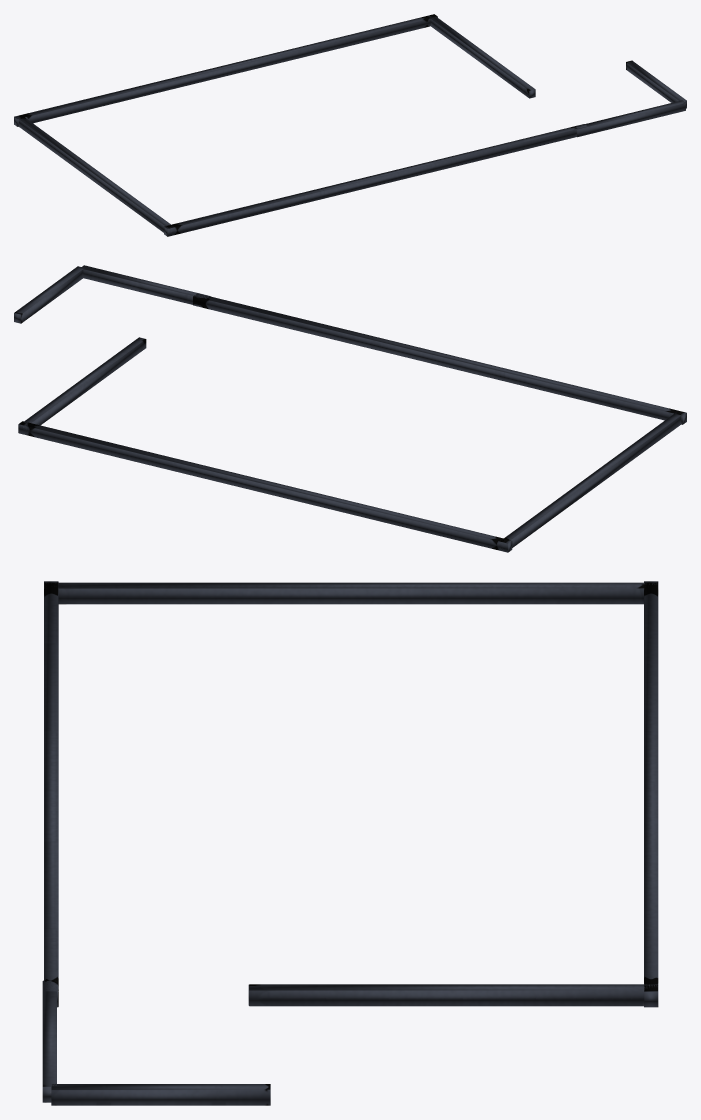
File: Albatros_Zocalo.fbx
The picture shows the model from 3 angles, top to bottom: view 1: azimuth 30°, elevation 25°; view 2: azimuth 150°, elevation 25°; view 3: azimuth 270°, elevation 25°; orthographic projection. The views are drawn at different scales.
Visible parts, largest first — view 1: Albatros_Zocalo; view 2: Albatros_Zocalo; view 3: Albatros_Zocalo.
Boxes of the visible parts, x1,y1,x2,y2 form: Albatros_Zocalo: (14, 14, 686, 236); Albatros_Zocalo: (14, 265, 686, 552); Albatros_Zocalo: (42, 581, 658, 1105).
Bounding box in the file's own units: 82.3 × 1.2 × 42.1.
